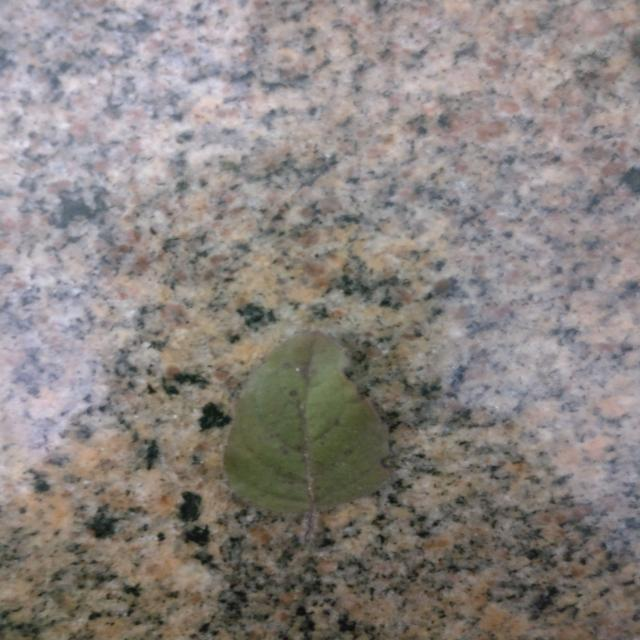defectedtulsi: (233, 331, 380, 434), (225, 460, 308, 511), (312, 479, 382, 508)
tulsi: (225, 331, 390, 512)
